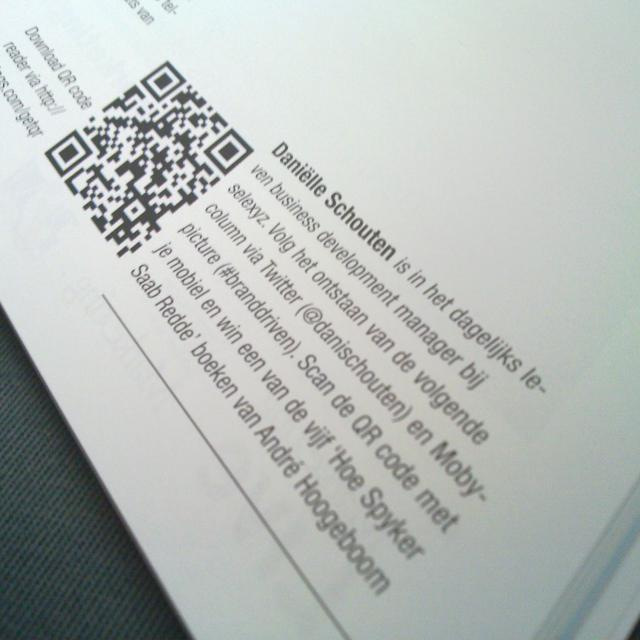qrcode: (45, 62, 255, 264)
